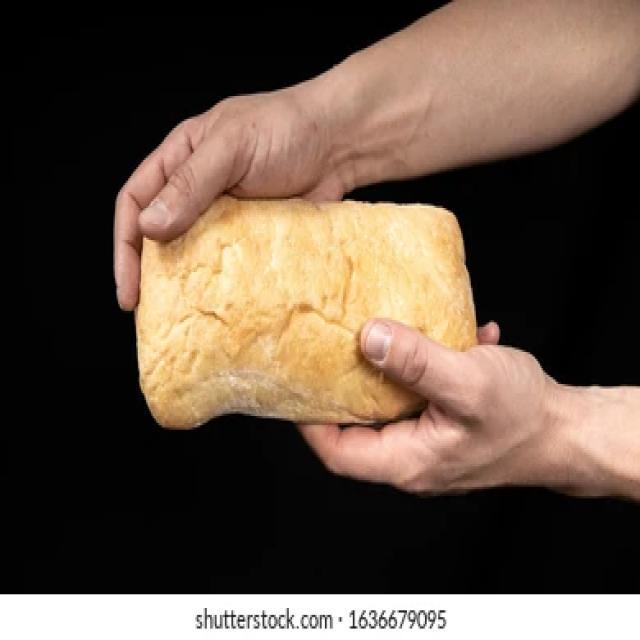Ciabatta: (136, 197, 474, 427)
